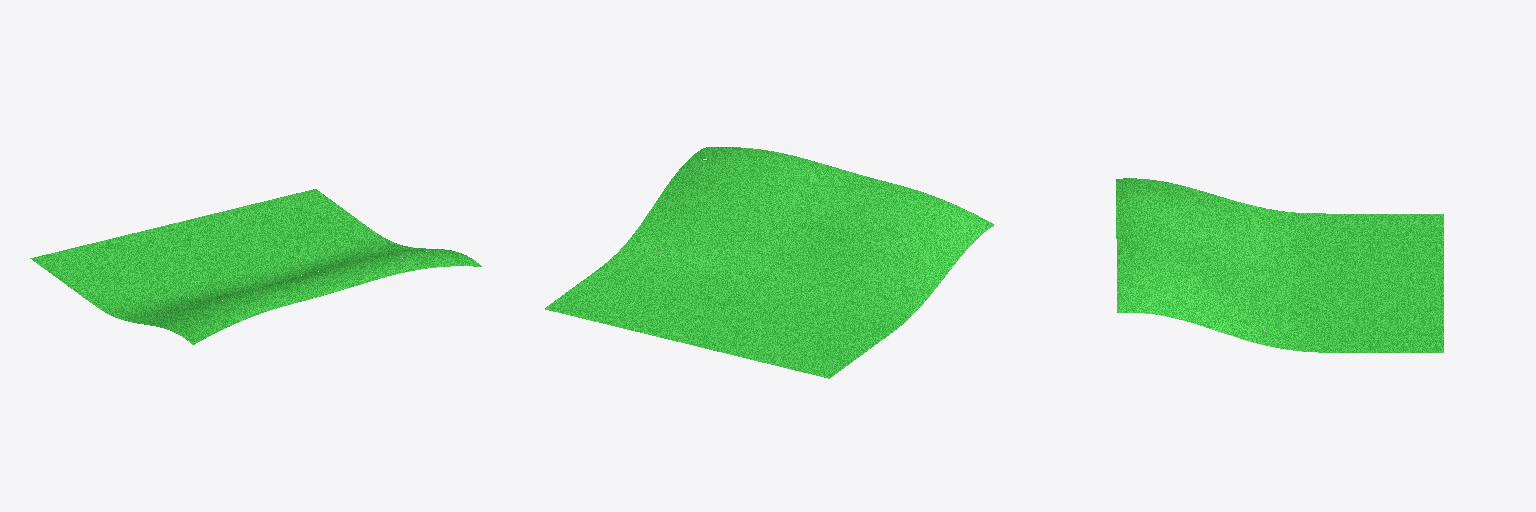
3 views of the same model, side by side, from view 1: azimuth 30°, elevation 25°; view 2: azimuth 150°, elevation 25°; view 3: azimuth 270°, elevation 25° (orthographic).
Parts seen in each view (by area): view 1: 平面_平面.002; view 2: 平面_平面.002; view 3: 平面_平面.002.
Part boxes in pixels (x1,y1,x2,y2): 平面_平面.002: (30, 189, 481, 344); 平面_平面.002: (545, 147, 993, 378); 平面_平面.002: (1116, 178, 1443, 352).
Size of the model in its own units: 20.32 by 3.69 by 19.93.
1 materials, 1 textured.